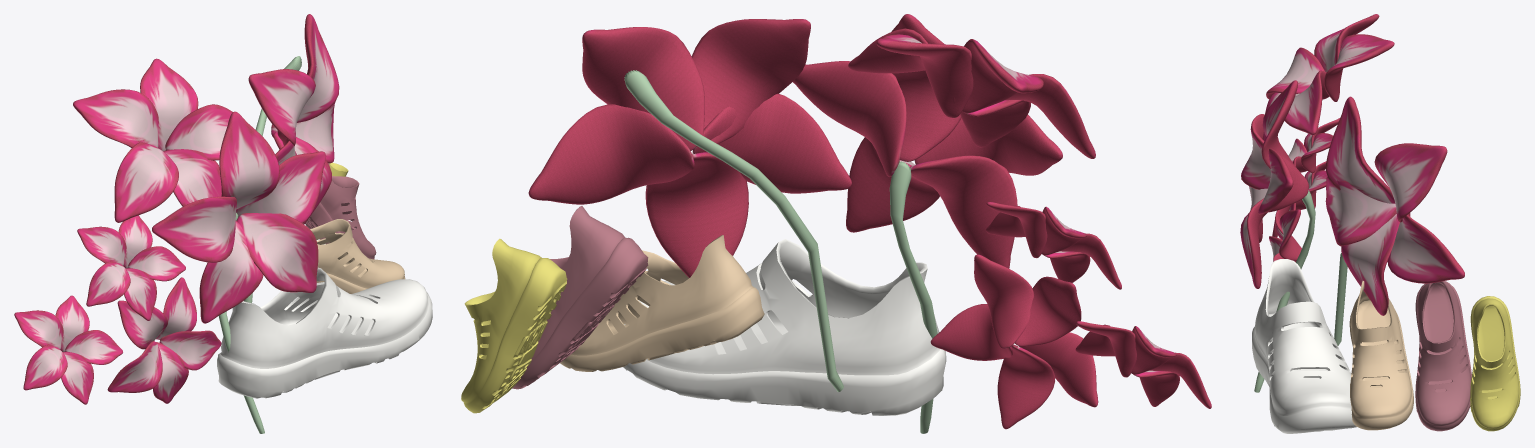
File: flower & shoe.fbx
3 renders of one model, left to right at view 1: azimuth 30°, elevation 25°; view 2: azimuth 150°, elevation 25°; view 3: azimuth 270°, elevation 25°, orthographic. The views are drawn at different scales.
Parts seen in each view (by area): view 1: shoe1, petal2 (×6), petal3 (×6), petal (×6), petal4 (×6), petal1 (×5), shoe3, shoe4, tuber (×2); view 2: shoe1, petal4 (×6), petal1 (×6), petal2 (×6), petal3 (×6), petal (×6), shoe3, shoe5, shoe4, tuber (×2); view 3: shoe1, petal4 (×6), shoe4, shoe3, petal3 (×4), petal2 (×3), shoe5, petal (×3), petal1 (×2), tuber (×2).
Part boxes in pixels (left/top/right/bottom): shoe1: left=217, top=267, right=432, bottom=398; petal2 (×6): left=23, top=69, right=315, bottom=392; petal3 (×6): left=14, top=14, right=339, bottom=349; petal (×6): left=65, top=104, right=331, bottom=370; petal4 (×6): left=55, top=58, right=335, bottom=351; petal1 (×5): left=61, top=149, right=263, bottom=404; shoe3: left=310, top=219, right=405, bottom=293; shoe4: left=305, top=163, right=376, bottom=259; tuber (×2): left=218, top=56, right=301, bottom=433; shoe1: left=623, top=239, right=946, bottom=415; petal4 (×6): left=528, top=34, right=1136, bottom=377; petal1 (×6): left=692, top=93, right=1179, bottom=429; petal2 (×6): left=691, top=19, right=1211, bottom=408; petal3 (×6): left=582, top=14, right=1176, bottom=374; petal (×6): left=645, top=28, right=1115, bottom=360; shoe3: left=560, top=235, right=764, bottom=371; shoe5: left=461, top=238, right=567, bottom=413; shoe4: left=512, top=206, right=648, bottom=389; tuber (×2): left=624, top=70, right=937, bottom=433; shoe1: left=1252, top=259, right=1356, bottom=433; petal4 (×6): left=1258, top=34, right=1464, bottom=283; shoe4: left=1415, top=281, right=1471, bottom=431; shoe3: left=1349, top=281, right=1413, bottom=430; petal3 (×4): left=1261, top=14, right=1447, bottom=222; petal2 (×3): left=1241, top=47, right=1395, bottom=203; shoe5: left=1470, top=296, right=1520, bottom=431; petal (×3): left=1240, top=70, right=1399, bottom=315; petal1 (×2): left=1249, top=177, right=1396, bottom=246; tuber (×2): left=1254, top=190, right=1347, bottom=392.
Size of the model in its own units: 43.99 by 33.11 by 25.34.
